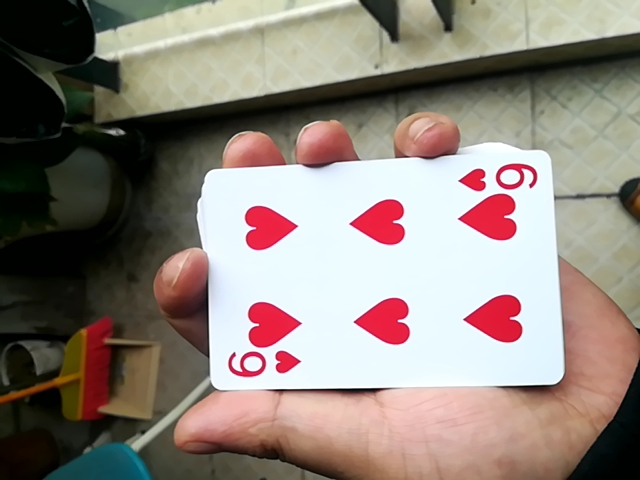hx 6: (181, 145, 558, 400)
